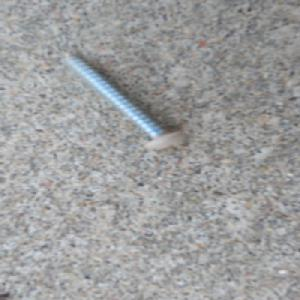Screw: (57, 48, 190, 152)
